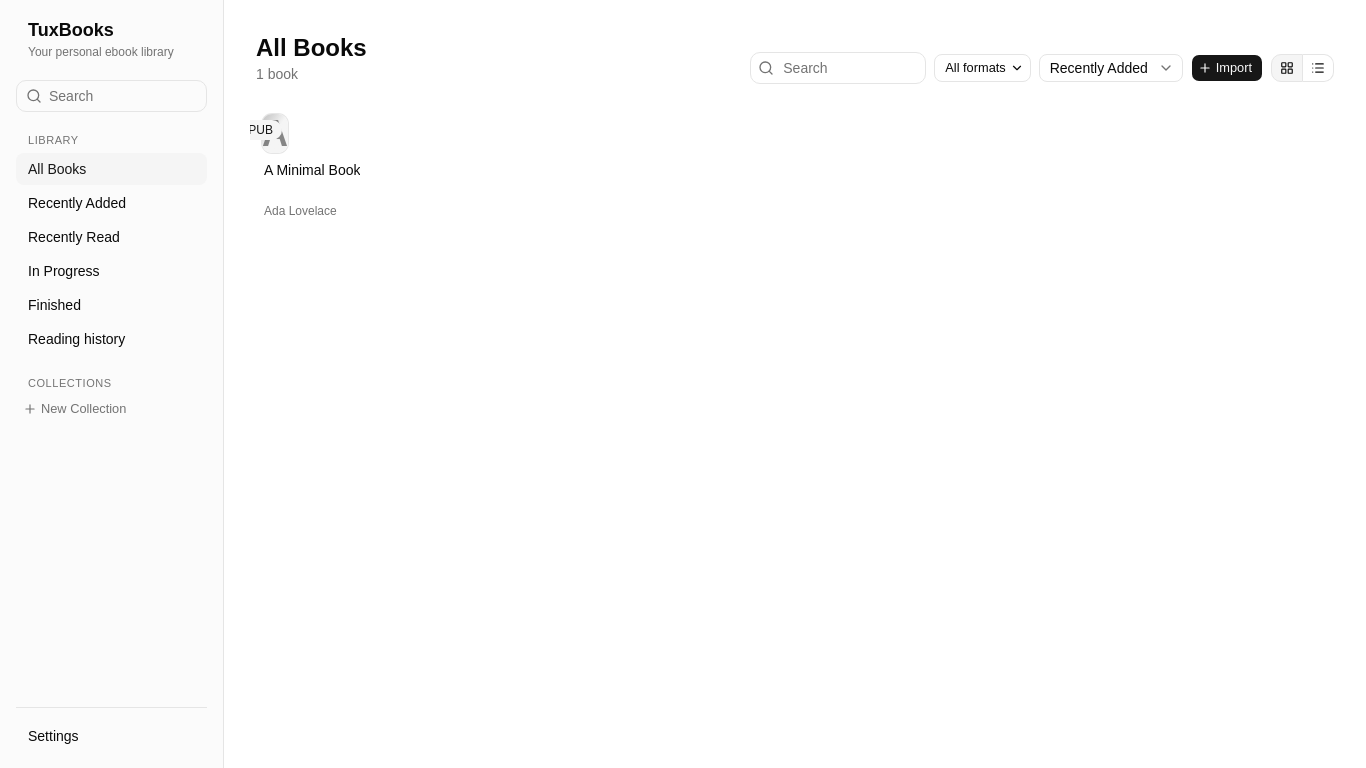
Import via the header menu › reports a cancelled import instead of the partial counts
The image size is (1366, 768).
Check: the header with test id "library-header" is shown, box [256,32,1334,84]
Click the button with test id "import-menu". click: (1227, 68)
box: [1191,54,1263,82]
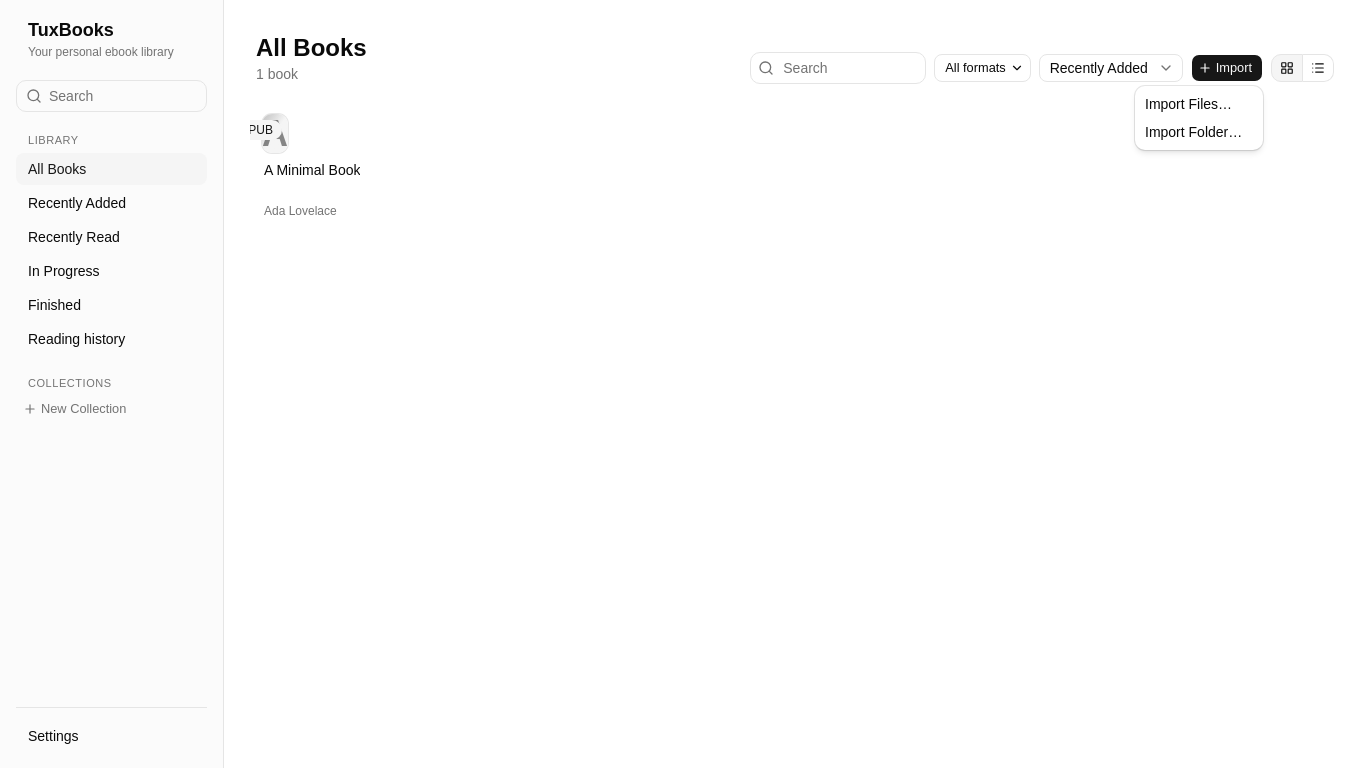
Click the menu item "Import Folder…". click: (1194, 132)
box: [1145,124,1242,140]
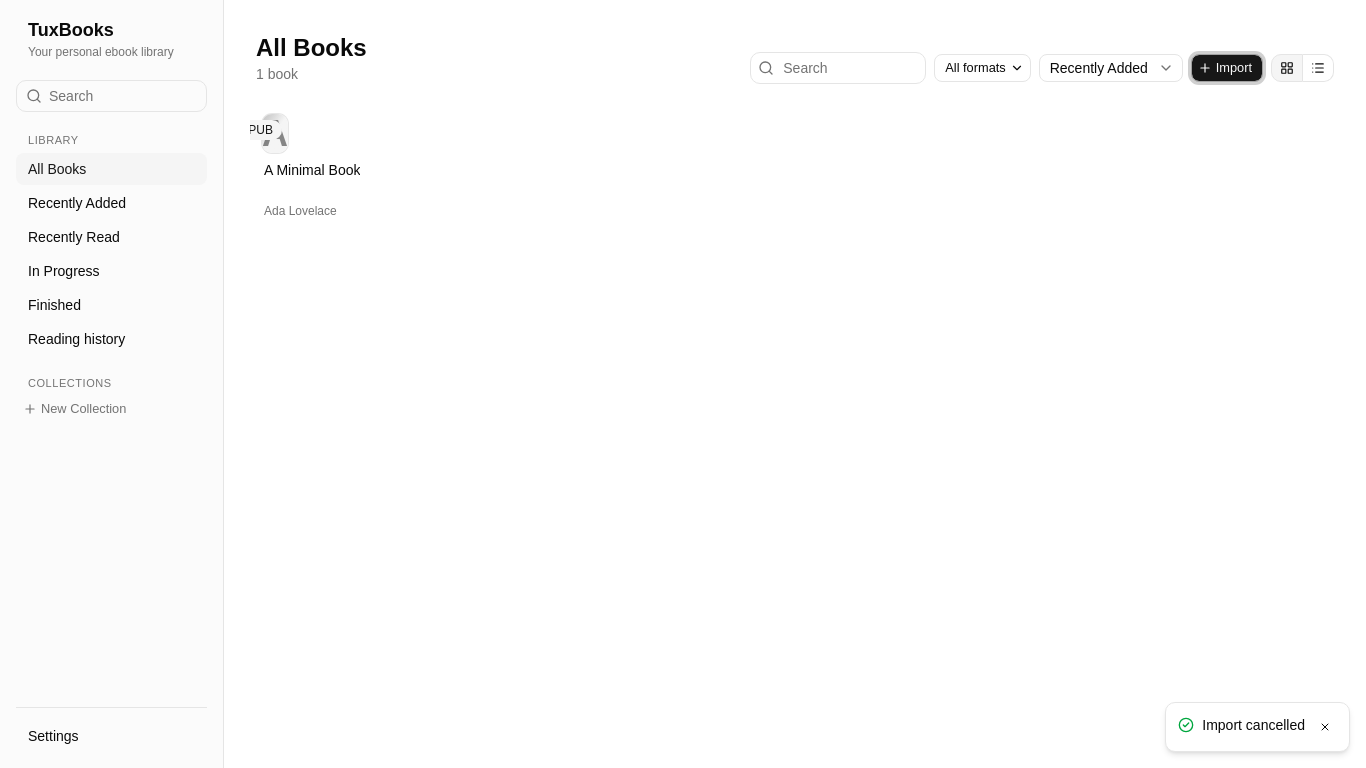
Check: the message with test id "import-status" does not show "Imported 704 new", box [1165,702,1350,752]
Check: the message with test id "import-status" reads "Import cancelled", box [1202,717,1305,733]
